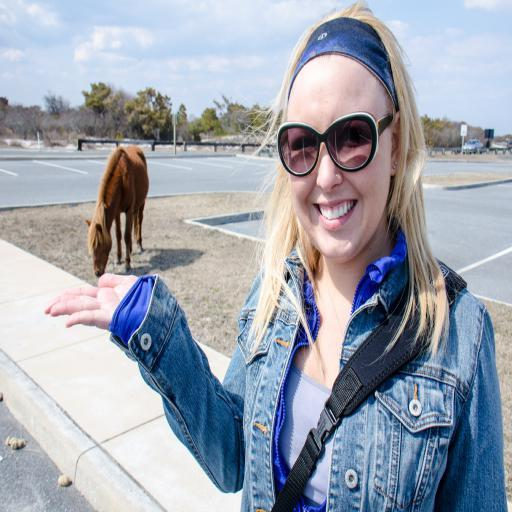horse: (85, 142, 151, 280)
